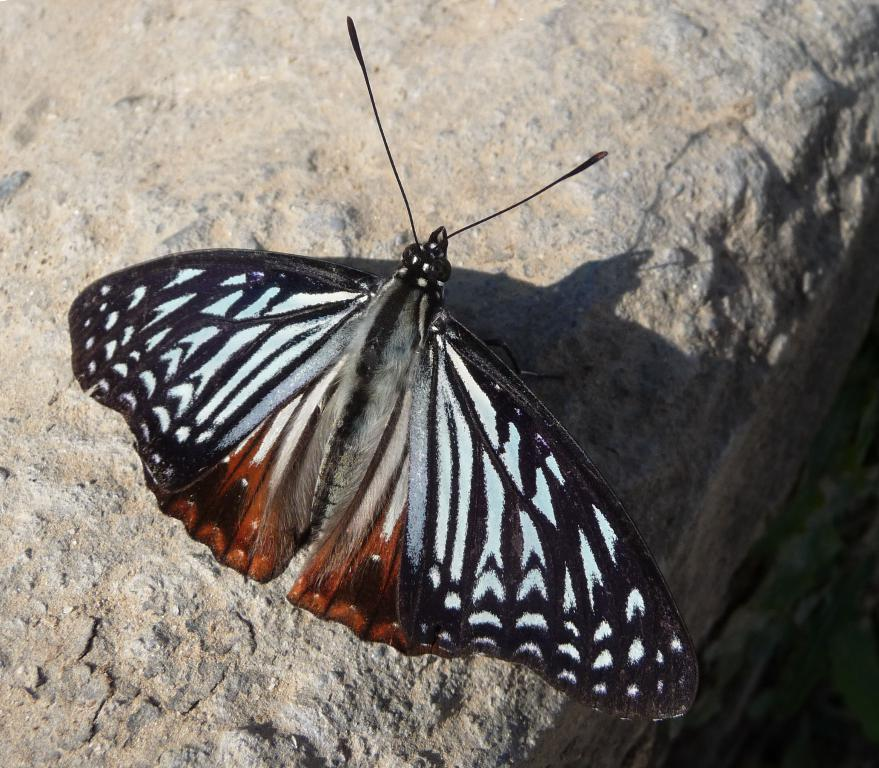Butterfly: (58, 180, 716, 735)
